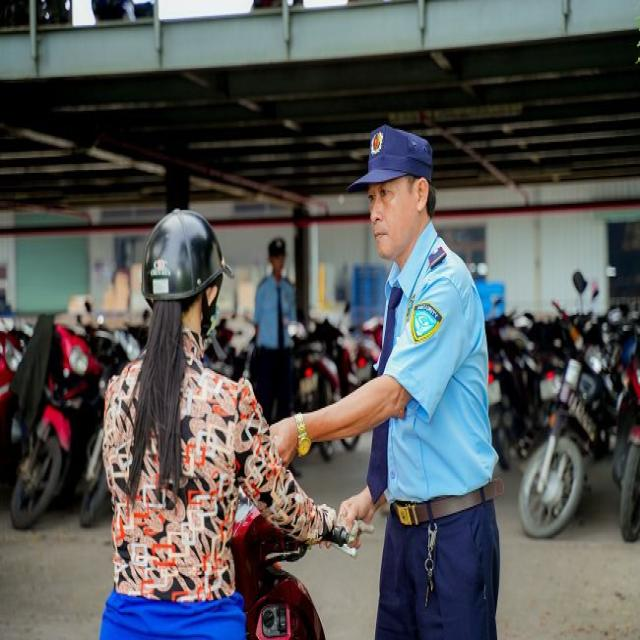1-2-helmet: (328, 238, 331, 239)
Cap: (347, 125, 433, 191)
